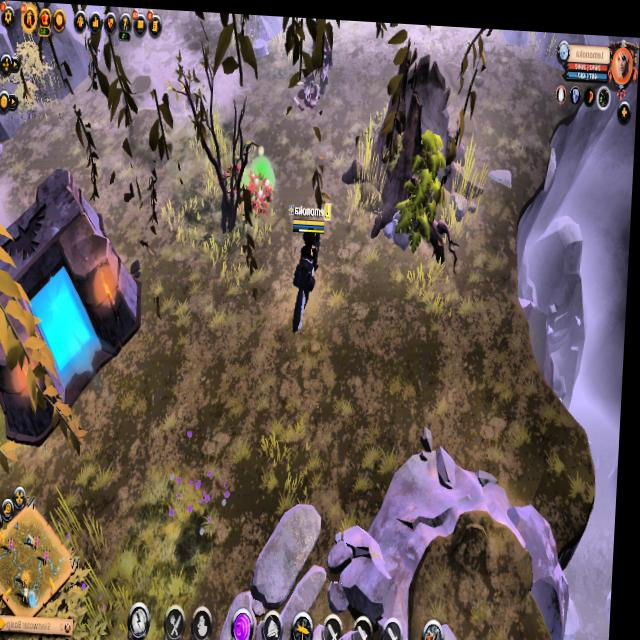fiber tier 5: (246, 163, 276, 217)
